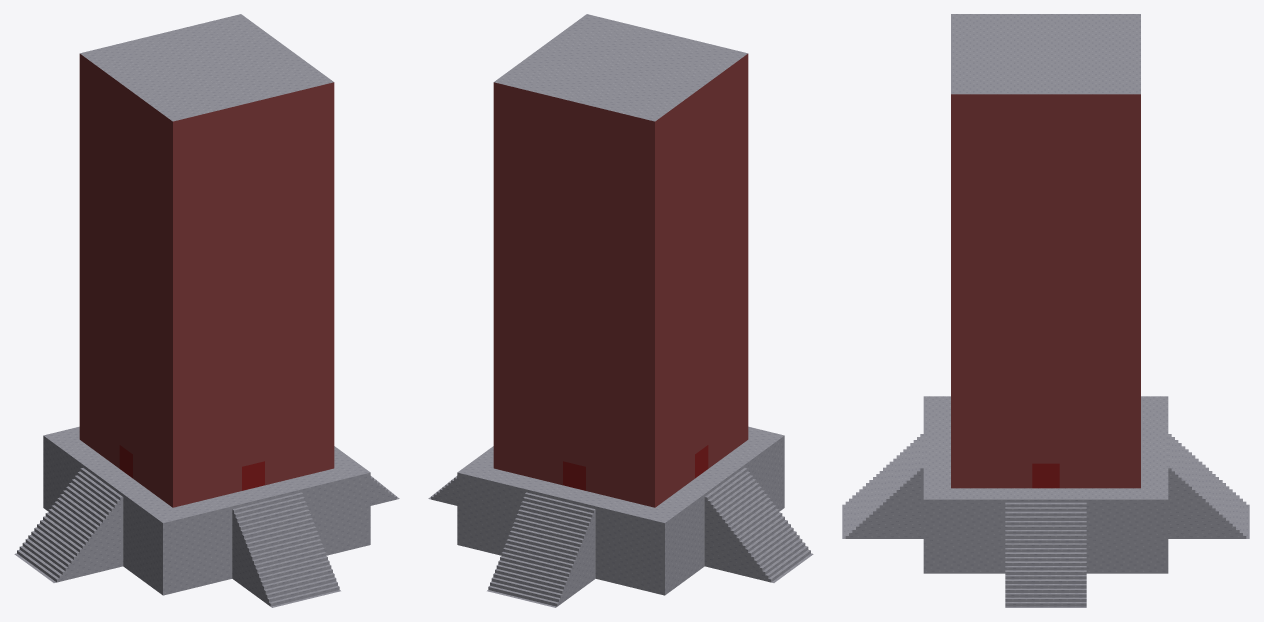
Rendered from Building_Apartment.fbx.
3 renders of one model, left to right at view 1: azimuth 30°, elevation 25°; view 2: azimuth 150°, elevation 25°; view 3: azimuth 270°, elevation 25°, orthographic.
Parts seen in each view (by area): view 1: Building_Apartment001, Building_Base001, Building_Stairs001; view 2: Building_Apartment001, Building_Base001, Building_Stairs001; view 3: Building_Apartment001, Building_Stairs001, Building_Base001.
Part boxes in pixels (x1,y1,x2,y2): Building_Apartment001: [79, 14, 334, 507]; Building_Base001: [43, 426, 370, 595]; Building_Stairs001: [14, 465, 399, 607]; Building_Apartment001: [493, 14, 748, 507]; Building_Base001: [457, 426, 784, 595]; Building_Stairs001: [428, 465, 813, 607]; Building_Apartment001: [951, 14, 1140, 488]; Building_Stairs001: [842, 434, 1249, 607]; Building_Base001: [923, 396, 1168, 573].
Bounding box in the file's own units: 3000 × 3800 × 3000.
